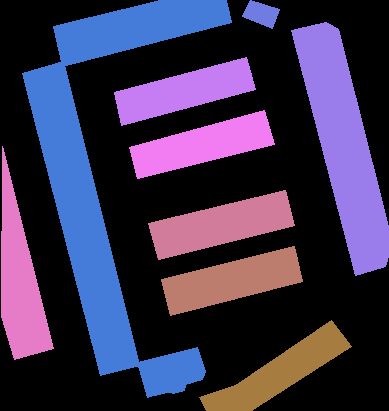parkingspot: (22, 61, 139, 375), (291, 22, 389, 275), (199, 320, 351, 411), (53, 0, 231, 66), (1, 146, 53, 359), (148, 190, 294, 259), (129, 110, 274, 178), (161, 246, 302, 315), (114, 57, 255, 125), (137, 347, 205, 397), (242, 0, 279, 28)
